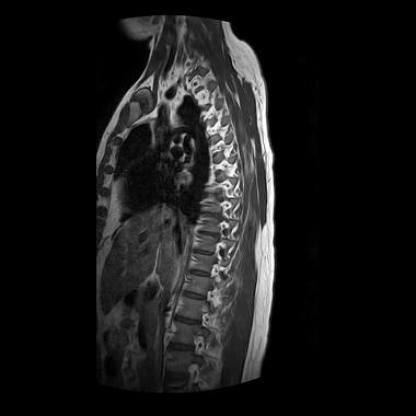Demyelinating Plaquesrotation: (197, 209, 220, 221), (197, 137, 217, 147)
Hemangiomatarotation: (187, 253, 213, 272), (195, 124, 214, 138)
